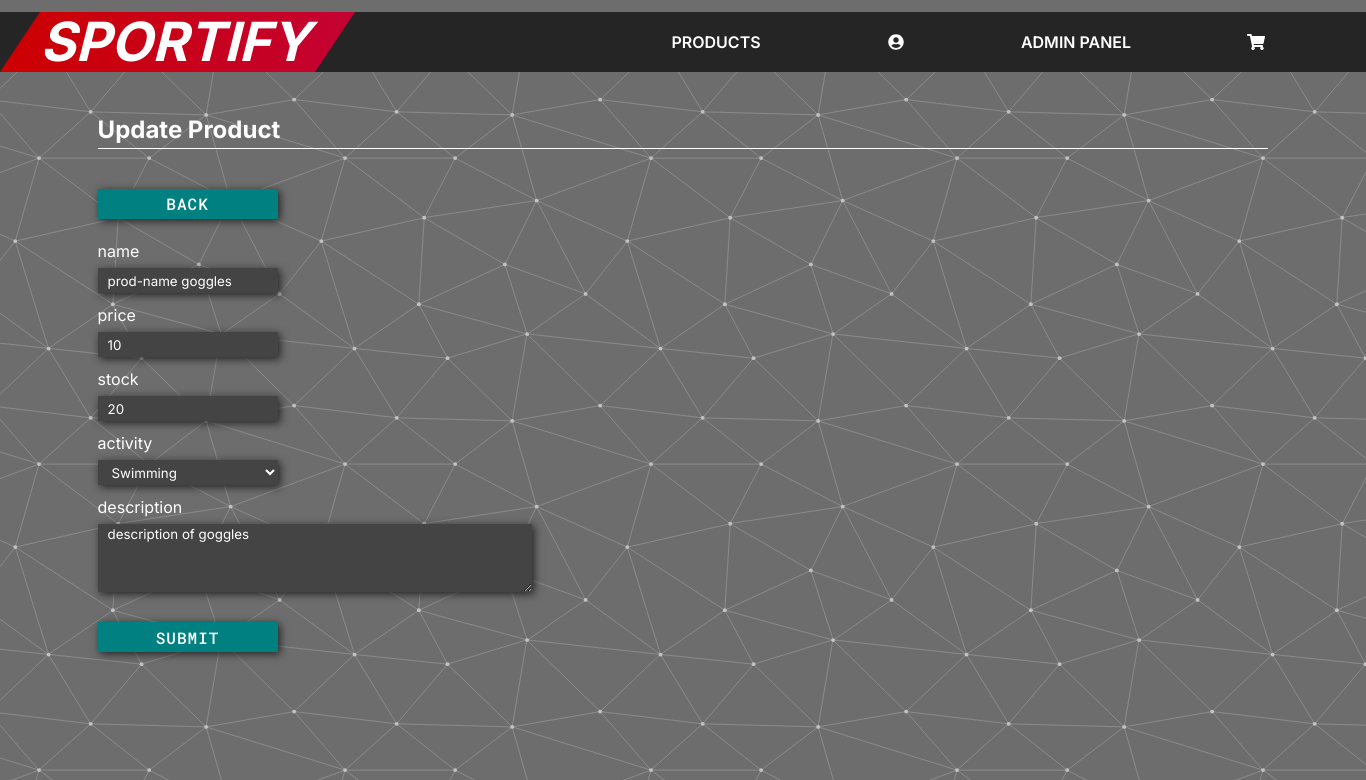
Test case: update product form › displays 400 error
Click the button "Submit": (188, 637) x1=98 y1=622 x2=278 y2=652
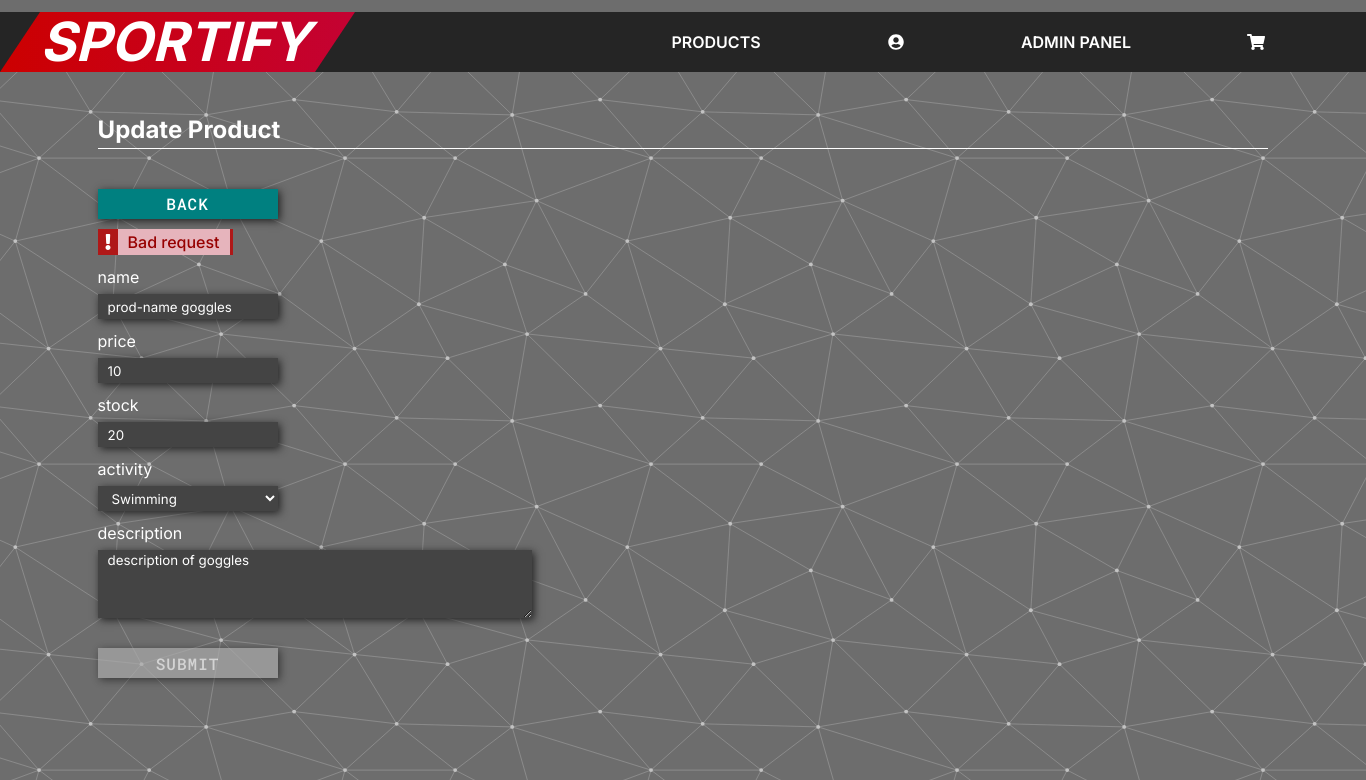
expect the list item "Bad request" is shown: met, box x1=118 y1=229 x2=233 y2=255
